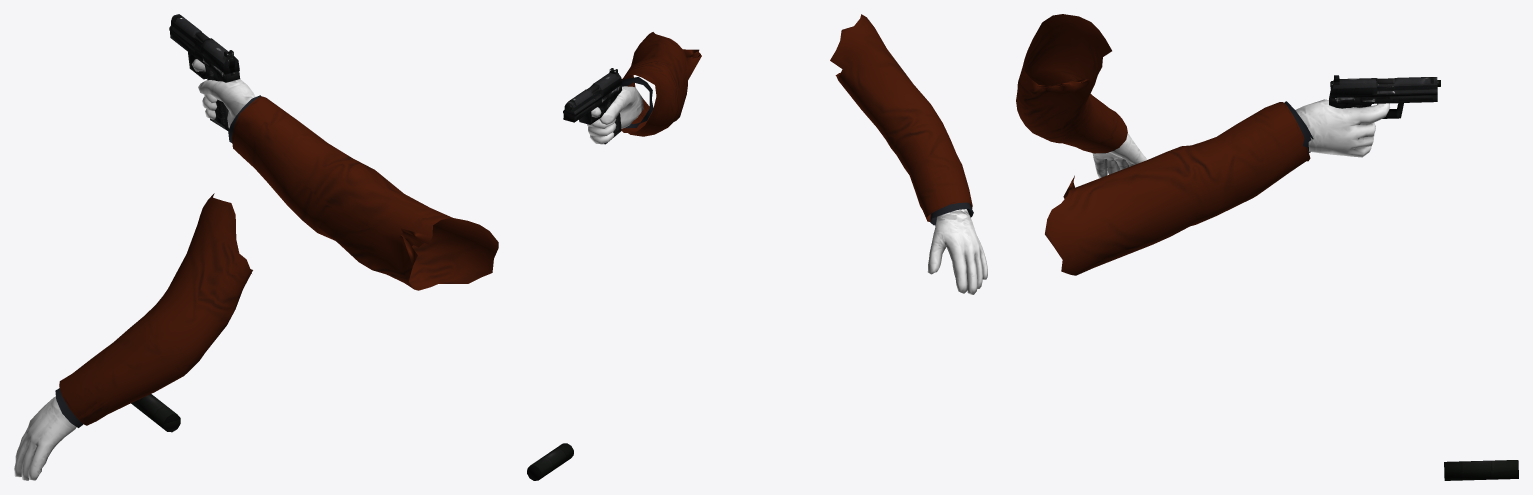
The model's file is frame_0009.obj.
The picture shows the model from 3 angles, left to right: view 1: azimuth 30°, elevation 25°; view 2: azimuth 150°, elevation 25°; view 3: azimuth 270°, elevation 25°; orthographic projection. The views are drawn at different scales.
Parts seen in each view (by area): view 1: PlayerModelMerged.001_PlayerModelMerged, glock_reference.001; view 2: PlayerModelMerged.001_PlayerModelMerged, glock_reference.001; view 3: PlayerModelMerged.001_PlayerModelMerged, glock_reference.001.
Part boxes in pixels (bbox=[...]): PlayerModelMerged.001_PlayerModelMerged: bbox=[14, 59, 498, 480]; glock_reference.001: bbox=[131, 14, 240, 432]; PlayerModelMerged.001_PlayerModelMerged: bbox=[587, 14, 987, 294]; glock_reference.001: bbox=[527, 68, 622, 480]; PlayerModelMerged.001_PlayerModelMerged: bbox=[1016, 14, 1390, 275]; glock_reference.001: bbox=[1329, 75, 1518, 480].
Bounding box in the file's own units: 1.15 × 1.04 × 1.17.
